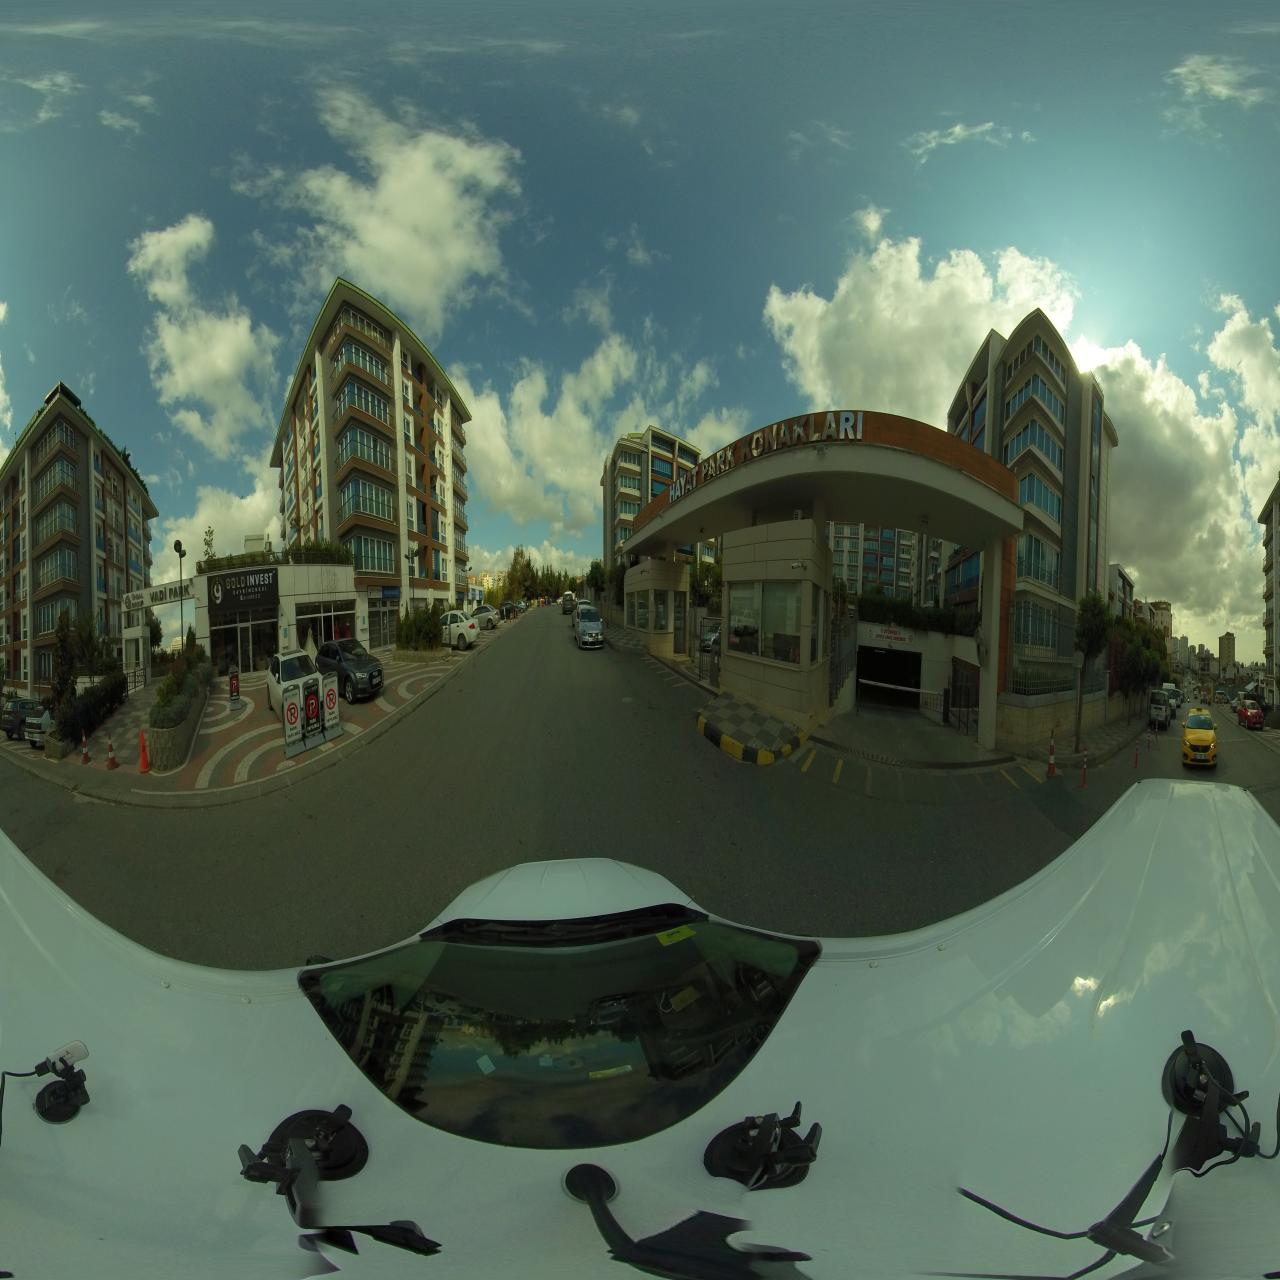SignStore: (207, 567, 279, 615), (368, 586, 401, 598)
